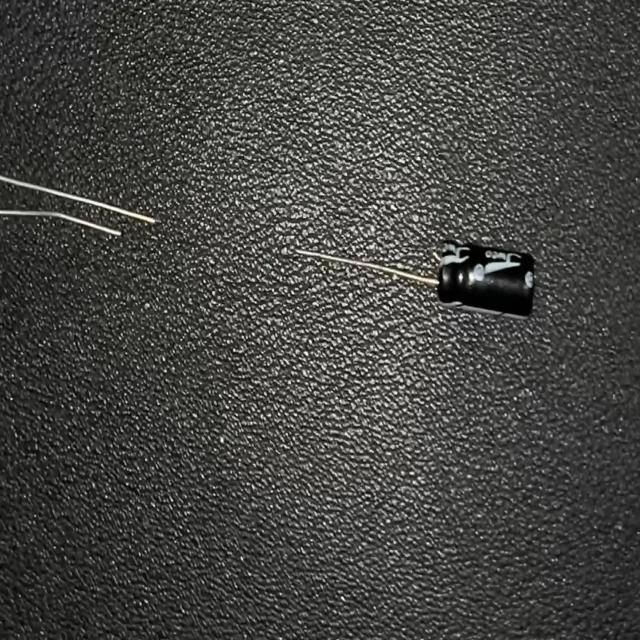missing-leg: (296, 224, 538, 328)
